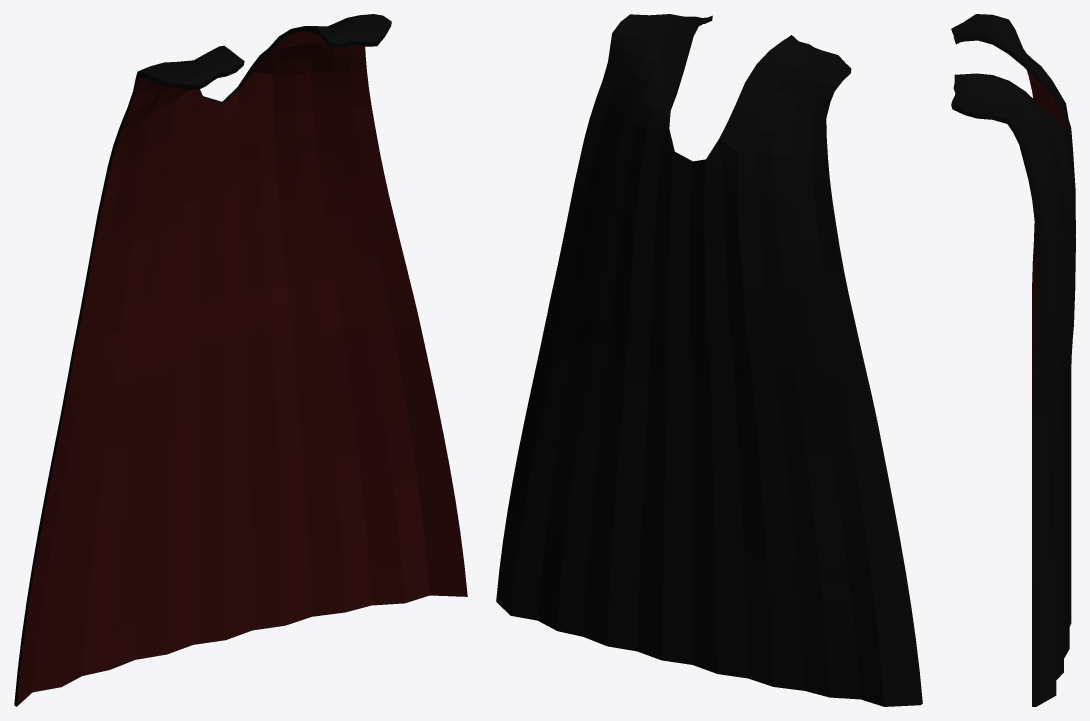
File: moffcape.fbx
3 renders of one model, left to right at view 1: azimuth 30°, elevation 25°; view 2: azimuth 150°, elevation 25°; view 3: azimuth 270°, elevation 25°, orthographic. The views are drawn at different scales.
Visible parts, largest first — view 1: Cape; view 2: Cape; view 3: Cape.
Boxes of the visible parts, x1,y1,x2,y2 form: Cape: [14, 14, 467, 706]; Cape: [496, 14, 922, 706]; Cape: [951, 14, 1075, 706].
Size of the model in its own units: 1.12 by 1.52 by 0.308.
